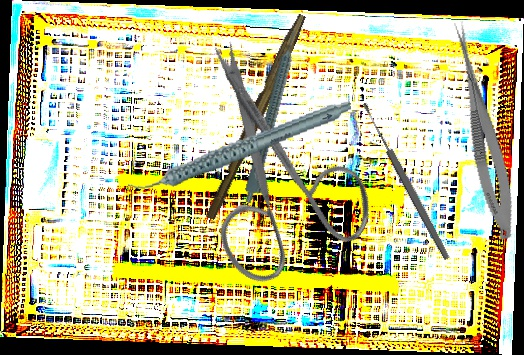Handpiece: (120, 99, 359, 193), (241, 29, 308, 207)
Iris Scissors: (122, 34, 413, 316)
Micro Scissor: (440, 19, 524, 242)
Scalpel Handle: (204, 10, 307, 223)
Surgical Spoon: (360, 100, 452, 262)
